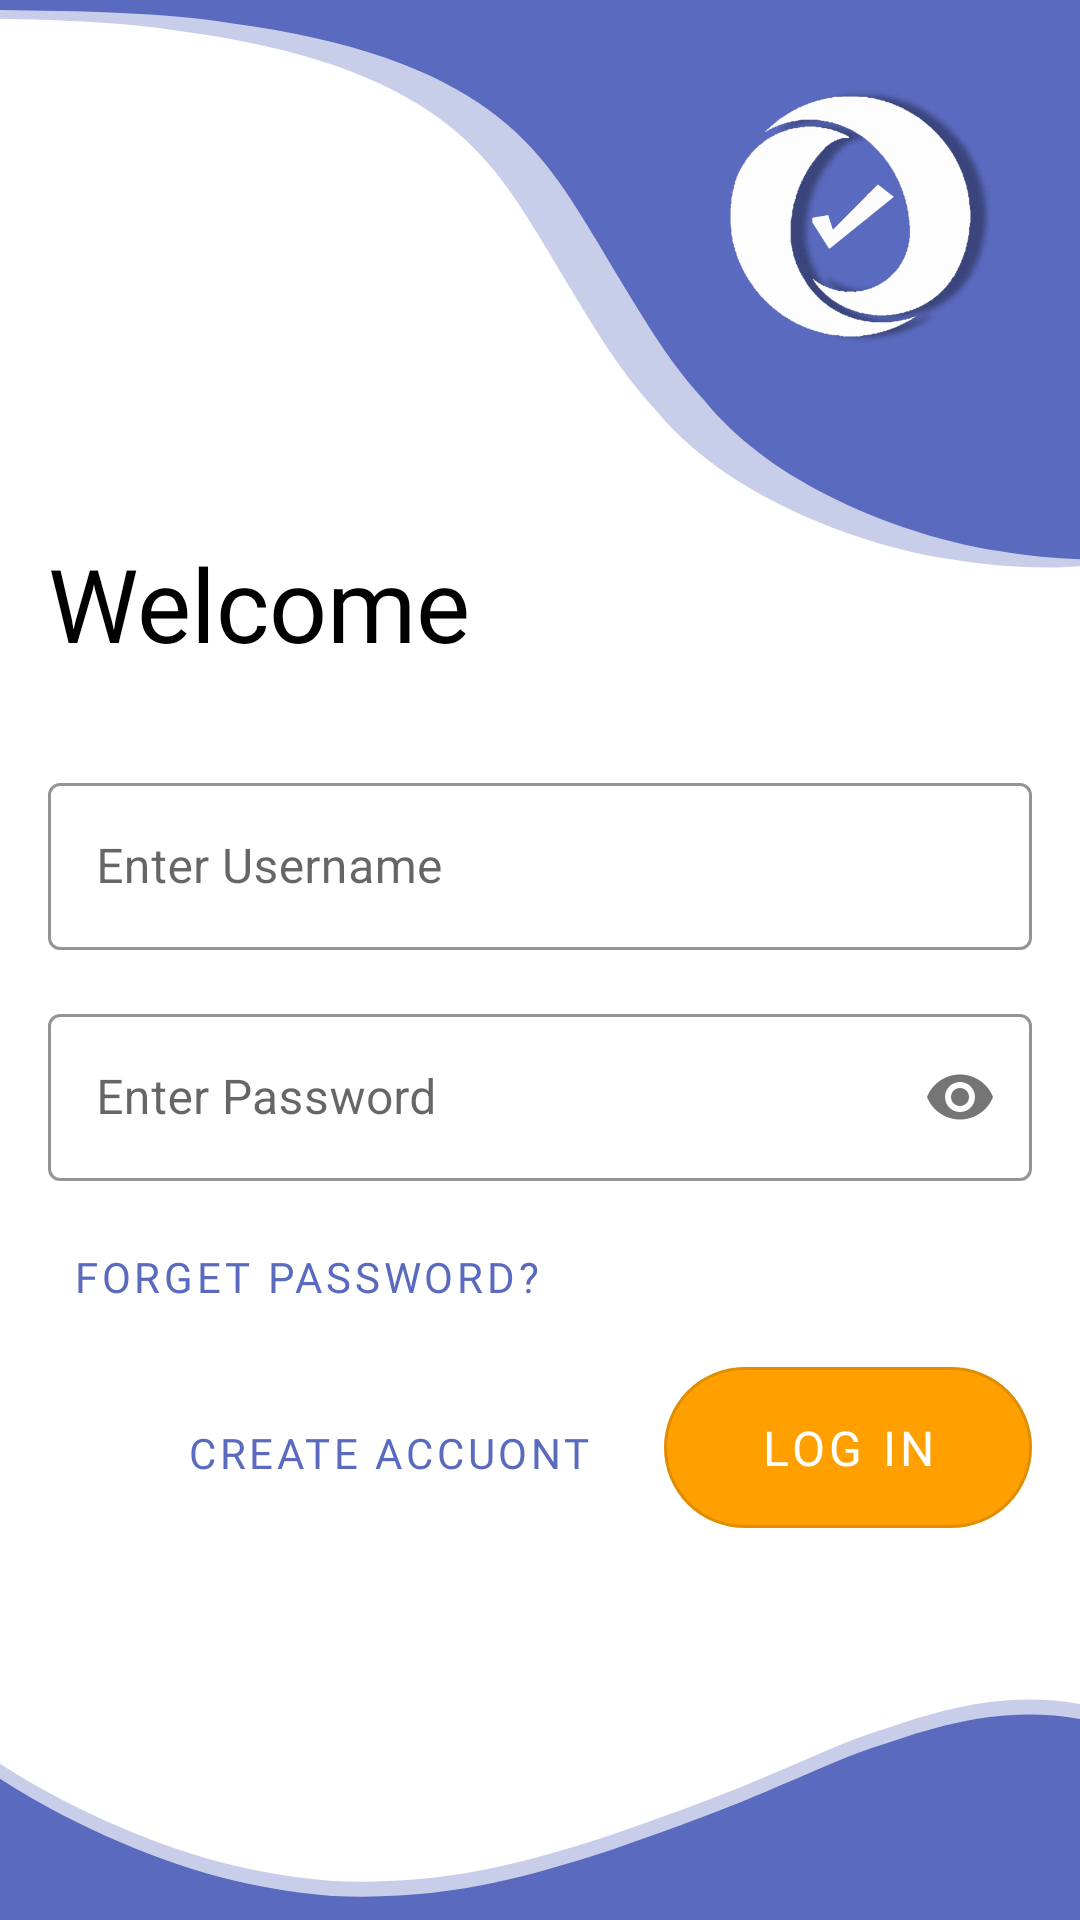

Icon bounding boxes for this 1080 × 1920 phone screenshot, format bbox=(x1, y1, x2, y2):
App Icon: bbox=(730, 94, 987, 339)
